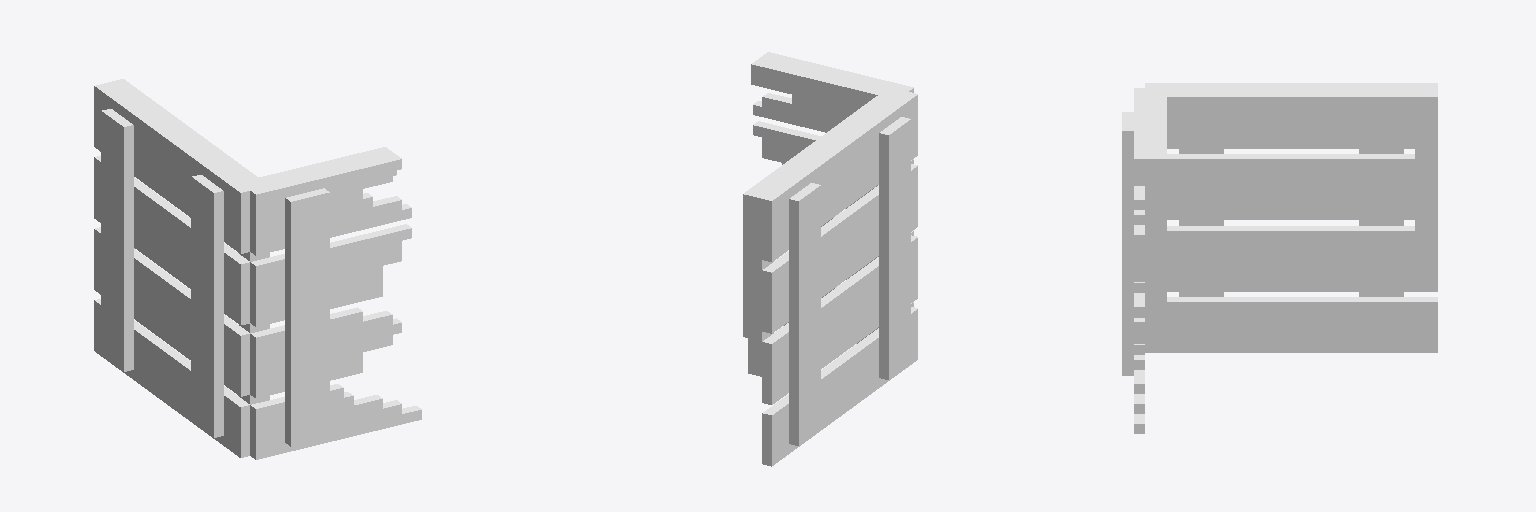
File: crate_broken-4-2.obj
3 views of the same model, side by side, from view 1: azimuth 30°, elevation 25°; view 2: azimuth 150°, elevation 25°; view 3: azimuth 270°, elevation 25° (orthographic).
Visible parts, largest first — view 1: 2; view 2: 2; view 3: 2.
Boxes of the visible parts, x1=… form: 2: x1=94, y1=79, x2=421, y2=459; 2: x1=743, y1=52, x2=917, y2=466; 2: x1=1122, y1=83, x2=1437, y2=433.
Size of the model in its own units: 1.9 by 2.6 by 2.8.